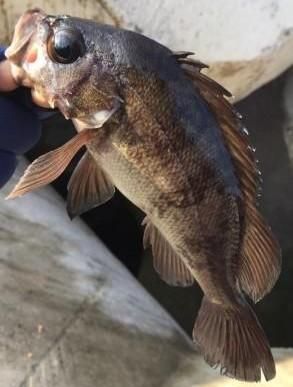fish: (6, 9, 280, 381)
